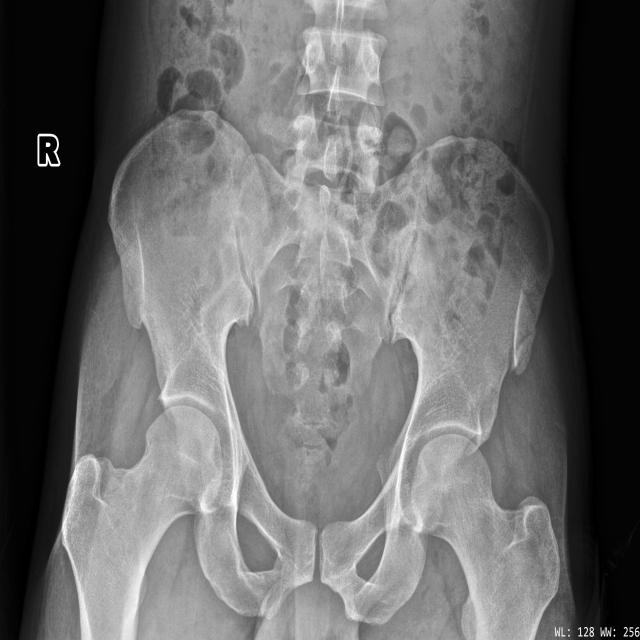normal-left: (410, 434, 561, 639)
normal-right: (62, 405, 222, 640)
